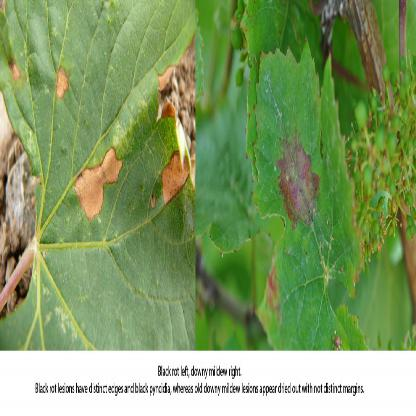grape leaf black rot: (9, 5, 194, 351), (245, 34, 370, 350)
